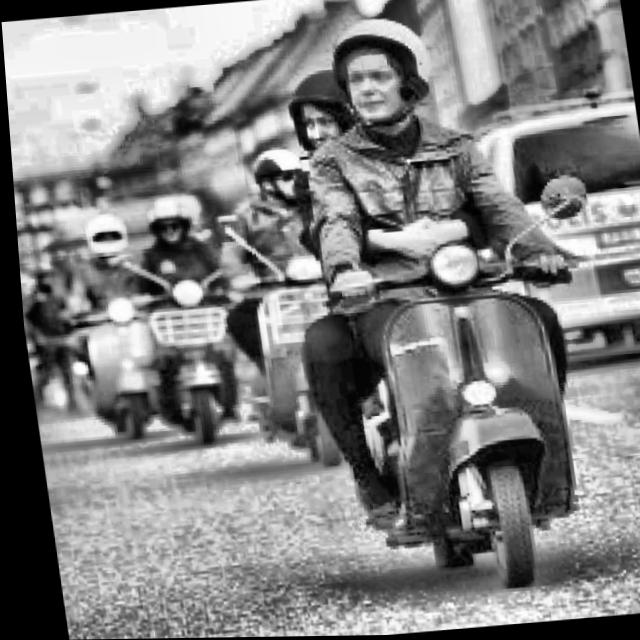motorcycle: (303, 168, 633, 606), (205, 199, 367, 470), (106, 230, 275, 449), (43, 265, 176, 453)
